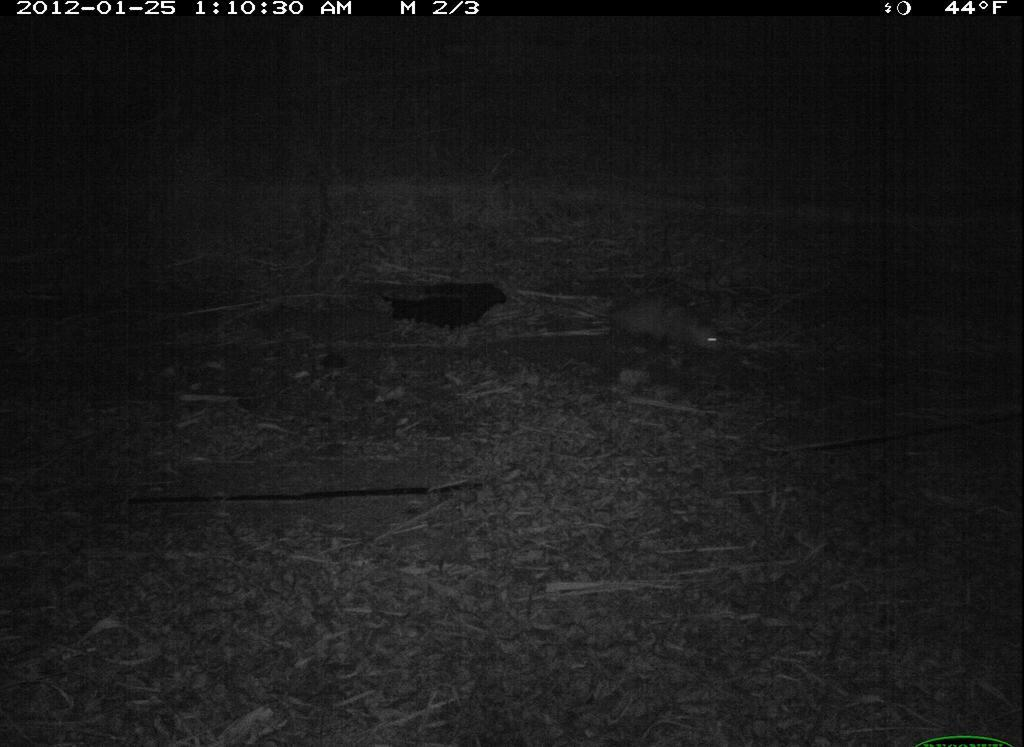opossum: (589, 287, 753, 377)
